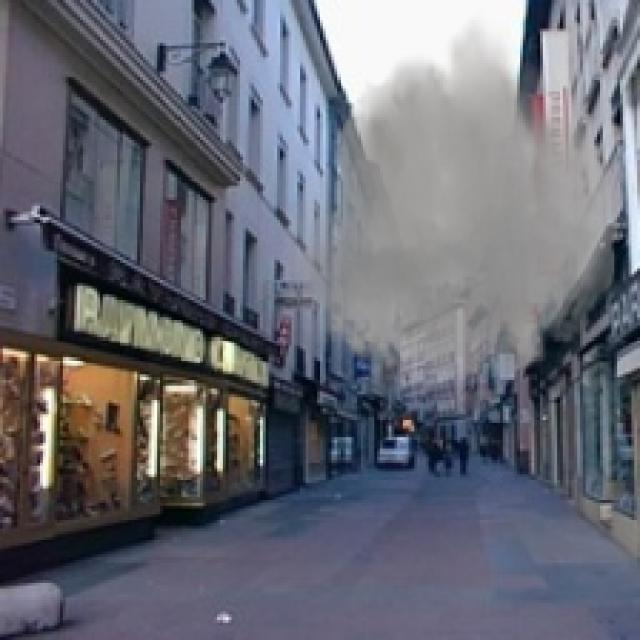Smoke: (266, 8, 628, 414)
